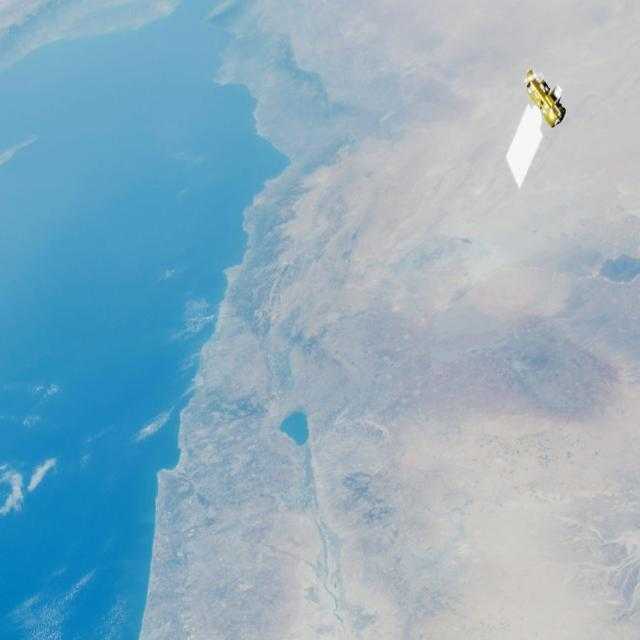satellite: (495, 59, 581, 192)
